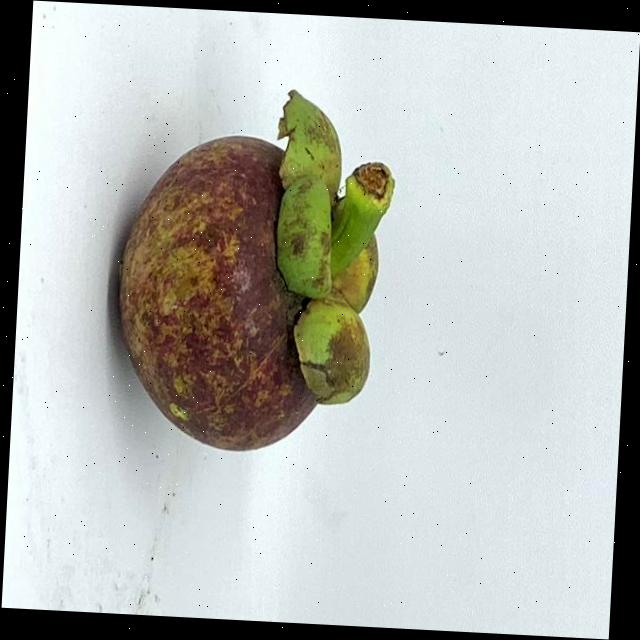mangosteen: (84, 67, 419, 530)
